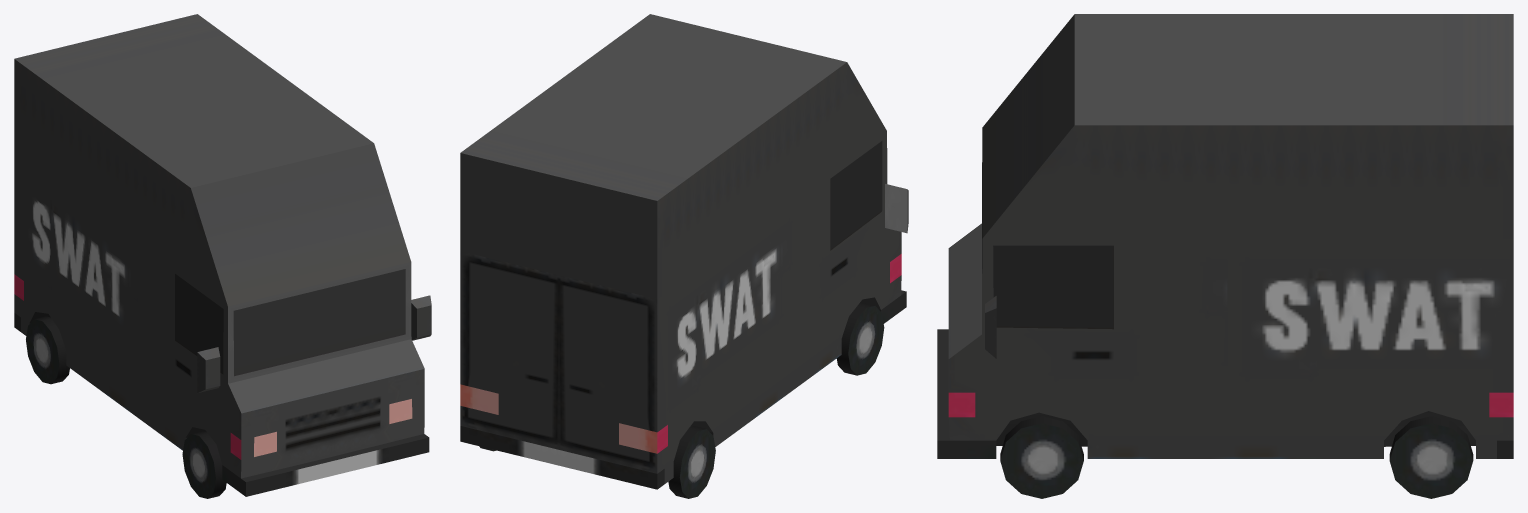
The model's file is swat_truck.fbx.
The picture shows the model from 3 angles, left to right: view 1: azimuth 30°, elevation 25°; view 2: azimuth 150°, elevation 25°; view 3: azimuth 270°, elevation 25°; orthographic projection. The views are drawn at different scales.
Visible parts, largest first — view 1: swat_truck; view 2: swat_truck; view 3: swat_truck.
Boxes of the visible parts, box(x1,y1,x2,y2) form: swat_truck: box(14, 14, 431, 498); swat_truck: box(460, 14, 908, 498); swat_truck: box(937, 14, 1513, 498).
Bounding box in the file's own units: 3.44 × 4.21 × 5.93.
